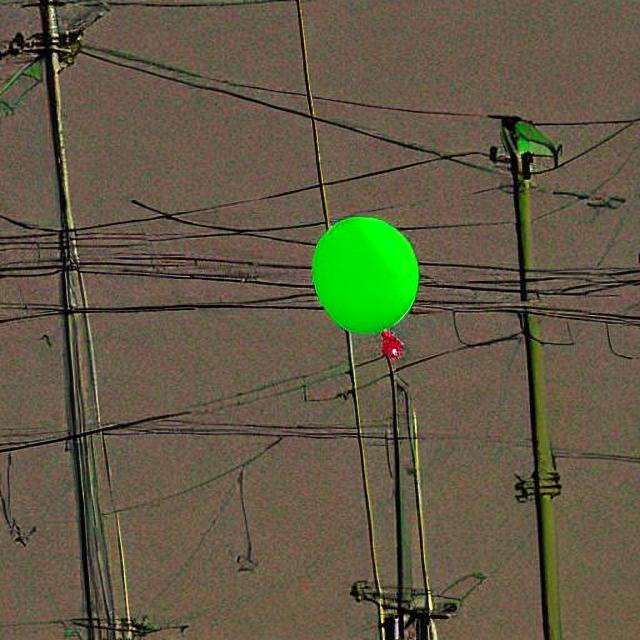balloon: (304, 210, 419, 338)
